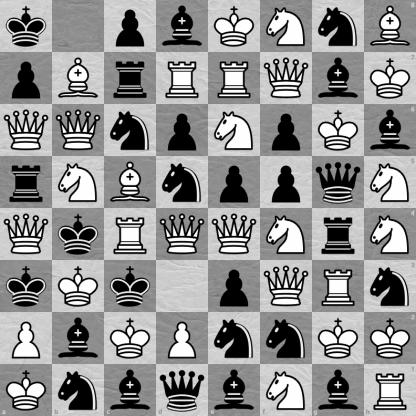B: (364, 0, 416, 52), (53, 53, 104, 104), (105, 157, 156, 208)
K: (0, 364, 52, 416), (364, 52, 416, 104), (364, 312, 416, 364), (53, 261, 104, 312), (105, 313, 156, 364), (209, 1, 260, 52), (313, 105, 364, 156), (313, 313, 364, 364)
N: (364, 156, 416, 209), (260, 364, 312, 416), (364, 209, 416, 260), (53, 157, 104, 208), (209, 105, 260, 156), (261, 1, 312, 52), (261, 209, 312, 260)
P: (1, 313, 52, 364), (157, 313, 208, 364)
Q: (1, 105, 52, 156), (1, 209, 52, 260), (53, 105, 104, 156), (157, 209, 208, 260), (209, 209, 260, 260), (261, 53, 312, 104), (261, 261, 312, 312)
R: (364, 364, 416, 416), (105, 209, 156, 260), (157, 53, 208, 104), (209, 53, 260, 104), (313, 261, 364, 312)
b: (104, 364, 156, 416), (312, 364, 364, 416), (364, 104, 416, 156), (209, 364, 260, 416), (53, 313, 104, 364), (157, 1, 208, 52), (313, 53, 364, 104)
board: (0, 0, 415, 415)
k: (1, 1, 52, 52), (1, 261, 52, 312), (53, 209, 104, 260), (105, 261, 156, 312)
n: (52, 364, 104, 416), (364, 260, 416, 312), (105, 105, 156, 156), (157, 157, 208, 208), (209, 313, 260, 364), (261, 313, 312, 364), (313, 1, 364, 52)
p: (1, 53, 52, 104), (105, 1, 156, 52), (157, 105, 208, 156), (209, 157, 260, 208), (209, 261, 260, 312), (261, 105, 312, 156), (261, 157, 312, 208)
q: (156, 364, 209, 416), (313, 157, 364, 208)
r: (1, 157, 52, 208), (105, 53, 156, 104), (313, 209, 364, 260)
